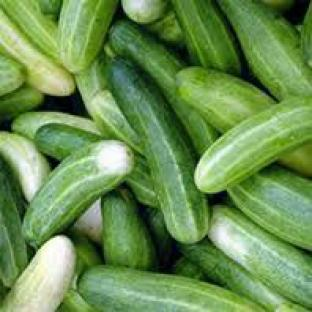Cucumber: (109, 59, 209, 242), (109, 21, 217, 154), (24, 141, 133, 245), (196, 98, 311, 192), (210, 207, 311, 307), (79, 267, 263, 311), (180, 240, 286, 310), (229, 166, 311, 250), (0, 10, 75, 96), (177, 68, 275, 132), (76, 56, 141, 152), (0, 237, 75, 311), (103, 190, 157, 271), (0, 158, 28, 286), (0, 131, 50, 201), (12, 111, 99, 140), (35, 125, 100, 160), (76, 52, 108, 110), (127, 155, 159, 207), (145, 210, 174, 267), (68, 231, 102, 277), (0, 86, 44, 121), (147, 10, 184, 47), (75, 201, 102, 244), (0, 54, 25, 96), (57, 290, 97, 311), (172, 257, 206, 280), (301, 4, 311, 67), (276, 303, 308, 311), (0, 281, 7, 305)
